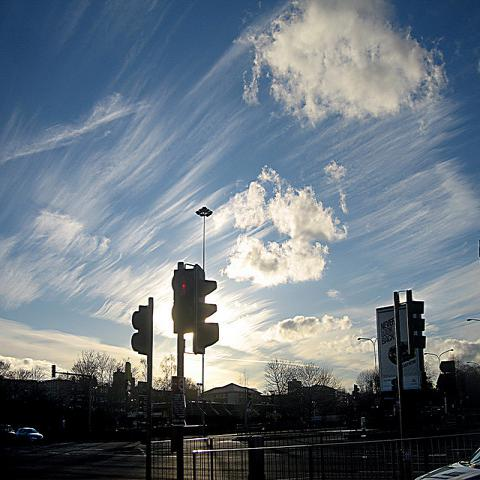car: (418, 445, 480, 479), (14, 427, 43, 441)
